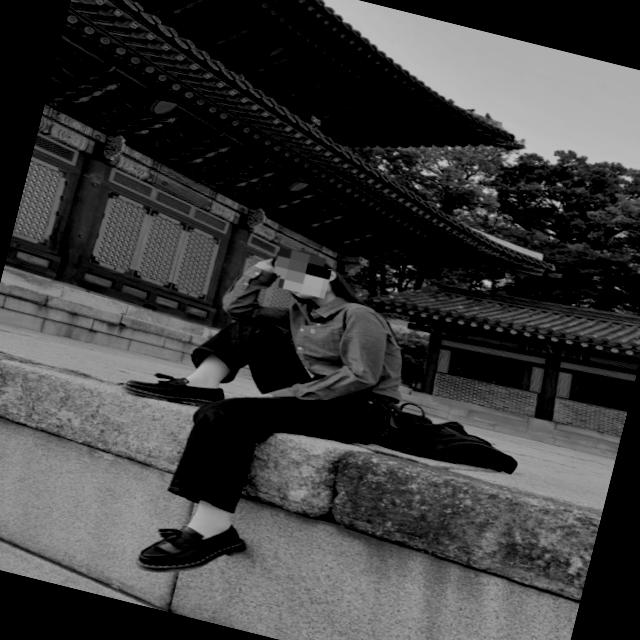denimpants: (154, 304, 406, 547)
shirt: (202, 254, 422, 425)
